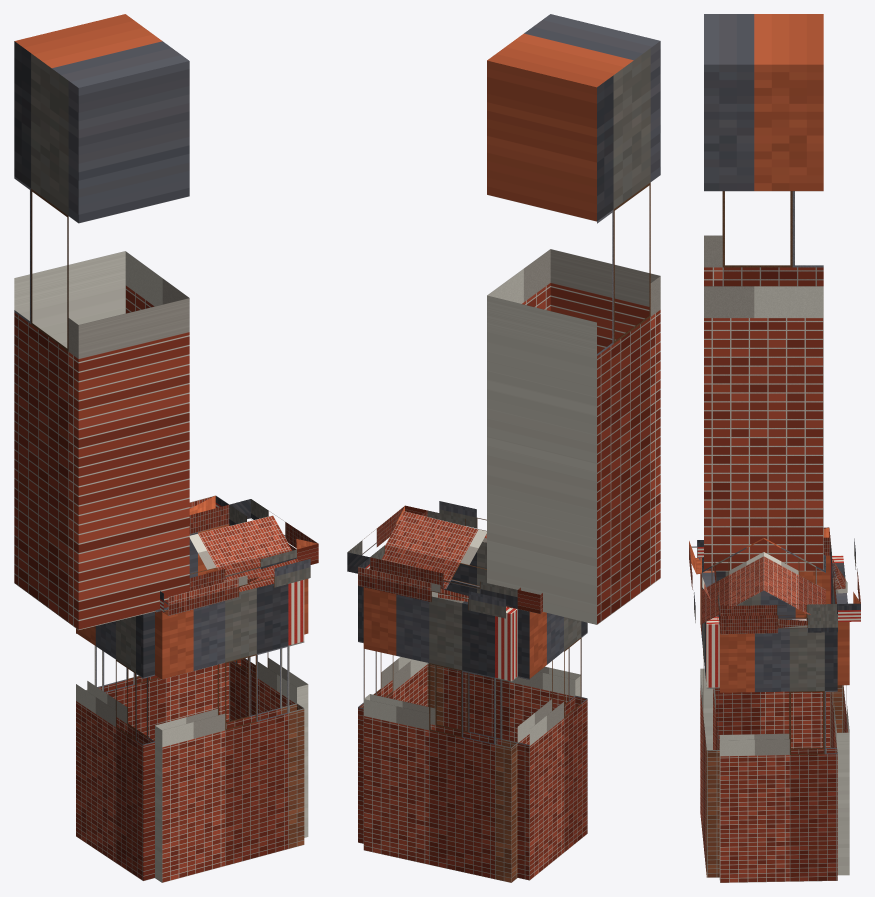
3 renders of one model, left to right at view 1: azimuth 30°, elevation 25°; view 2: azimuth 150°, elevation 25°; view 3: azimuth 270°, elevation 25°, orthographic. The views are drawn at different scales.
Parts seen in each view (by area): view 1: 1106973777__chimney_0_xb, 1106973777__wall_0_xb, 1106973777__wall_1_xb, 1106973777__wall_2_xb, 1106973777_roof_-1_xb, 1106973777__wall_3_xb, 1106973777__cornice_0, 1106973777__cornice_3, 1106973777__cornice_2; view 2: 1106973777__chimney_0_xb, 1106973777__wall_2_xb, 1106973777__wall_1_xb, 1106973777__wall_0_xb, 1106973777_roof_1_xb, 1106973777__cornice_2, 1106973777__wall_3_xb, 1106973777__cornice_3, 1106973777__cornice_0; view 3: 1106973777__chimney_0_xb, 1106973777__wall_3_xb, 1106973777__wall_1_xb, 1106973777__wall_0_xb, 1106973777__wall_2_xb, 1106973777__cornice_3, 1106973777_roof_-1_xb, 1106973777_roof_1_xb, 1106973777__cornice_2, 1106973777__cornice_0.
Boxes of the visible parts, x1,y1,x2,y2 form: 1106973777__chimney_0_xb: (14,14,189,630); 1106973777__wall_0_xb: (155,580,304,882); 1106973777__wall_1_xb: (76,611,154,880); 1106973777__wall_2_xb: (86,524,229,741); 1106973777_roof_-1_xb: (155,515,298,612); 1106973777__wall_3_xb: (229,524,308,837); 1106973777__cornice_0: (160,549,310,615); 1106973777__cornice_3: (229,499,318,564); 1106973777__cornice_2: (189,495,229,534); 1106973777__chimney_0_xb: (487,14,660,624); 1106973777__wall_2_xb: (363,587,517,882); 1106973777__wall_1_xb: (517,609,587,880); 1106973777__wall_0_xb: (427,538,580,742); 1106973777_roof_1_xb: (381,511,486,588); 1106973777__cornice_2: (358,557,517,618); 1106973777__wall_3_xb: (358,586,427,843); 1106973777__cornice_3: (347,505,427,573); 1106973777__cornice_0: (427,501,486,538); 1106973777__chimney_0_xb: (704,14,823,571); 1106973777__wall_3_xb: (719,625,837,882); 1106973777__wall_1_xb: (715,555,830,748); 1106973777__wall_0_xb: (700,558,719,877); 1106973777__wall_2_xb: (830,555,849,875); 1106973777__cornice_3: (719,604,837,634); 1106973777_roof_-1_xb: (702,538,763,623); 1106973777_roof_1_xb: (764,538,825,614); 1106973777__cornice_2: (830,538,860,621); 1106973777__cornice_0: (689,540,719,624).
Bounding box in the file's own units: 0.3361 × 1.05 × 0.2153.
1 material, 1 textured.
